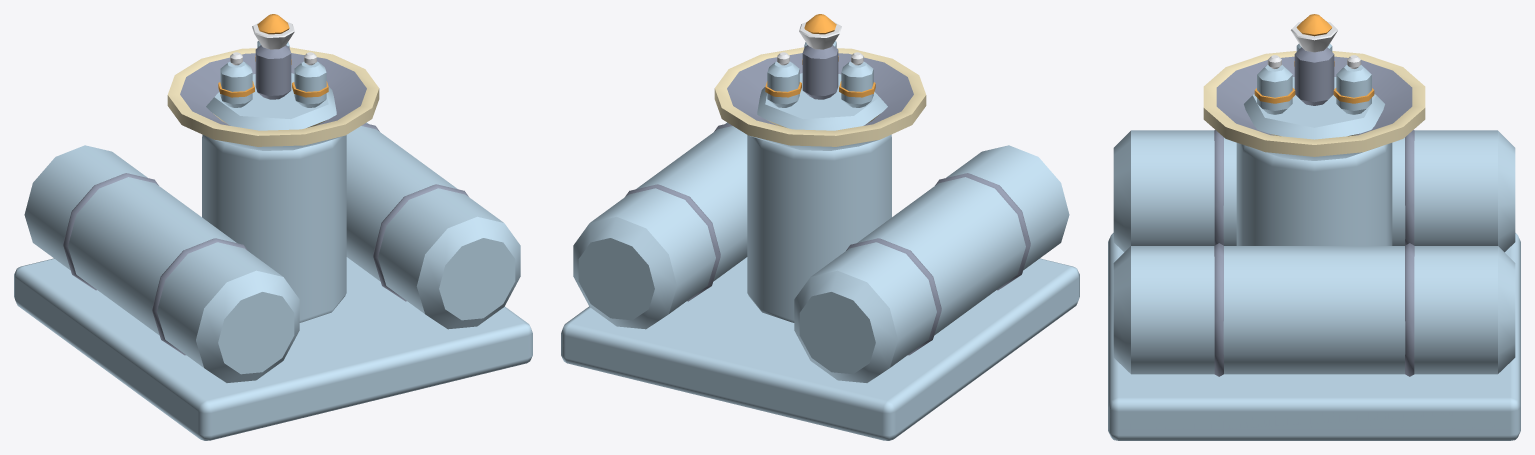
File: R4X_BurnTrapDeployer.fbx
3 renders of one model, left to right at view 1: azimuth 30°, elevation 25°; view 2: azimuth 150°, elevation 25°; view 3: azimuth 270°, elevation 25°, orthographic. The views are drawn at different scales.
Parts seen in each view (by area): view 1: R4X_BurnTrapDeployer_Body, R4X_BurnTrapDeployer_Payload; view 2: R4X_BurnTrapDeployer_Body, R4X_BurnTrapDeployer_Payload; view 3: R4X_BurnTrapDeployer_Body, R4X_BurnTrapDeployer_Payload.
Boxes of the visible parts, x1,y1,x2,y2 form: R4X_BurnTrapDeployer_Body: [14, 47, 532, 440]; R4X_BurnTrapDeployer_Payload: [206, 14, 336, 130]; R4X_BurnTrapDeployer_Body: [561, 47, 1079, 440]; R4X_BurnTrapDeployer_Payload: [757, 14, 887, 130]; R4X_BurnTrapDeployer_Body: [1108, 51, 1520, 440]; R4X_BurnTrapDeployer_Payload: [1244, 14, 1384, 139].
Bounding box in the file's own units: 0.52 × 0.476 × 0.52.
